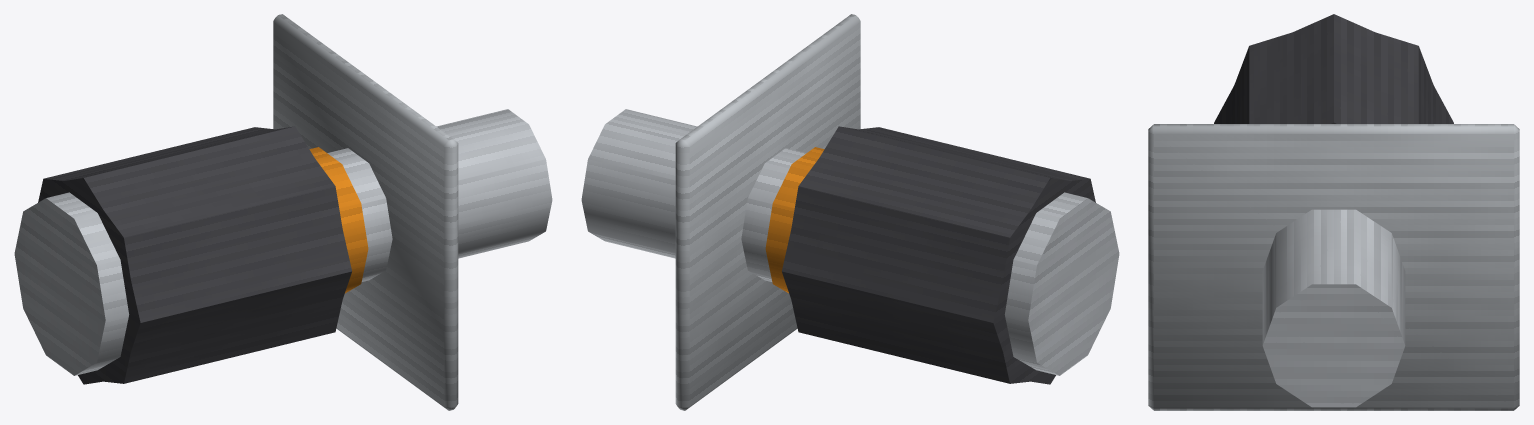
The model's file is filtro_ar_n3.glb.
The picture shows the model from 3 angles, left to right: view 1: azimuth 30°, elevation 25°; view 2: azimuth 150°, elevation 25°; view 3: azimuth 270°, elevation 25°; orthographic projection. The views are drawn at different scales.
Parts seen in each view (by area): view 1: filtro_ar_n3; view 2: filtro_ar_n3; view 3: filtro_ar_n3.
Part boxes in pixels (x1,y1,x2,y2): filtro_ar_n3: (14,14,552,410); filtro_ar_n3: (581,14,1119,410); filtro_ar_n3: (1148,14,1519,410).
Bounding box in the file's own units: 0.39 × 0.22 × 0.26.
Materials: 2 (2 with a texture image).
